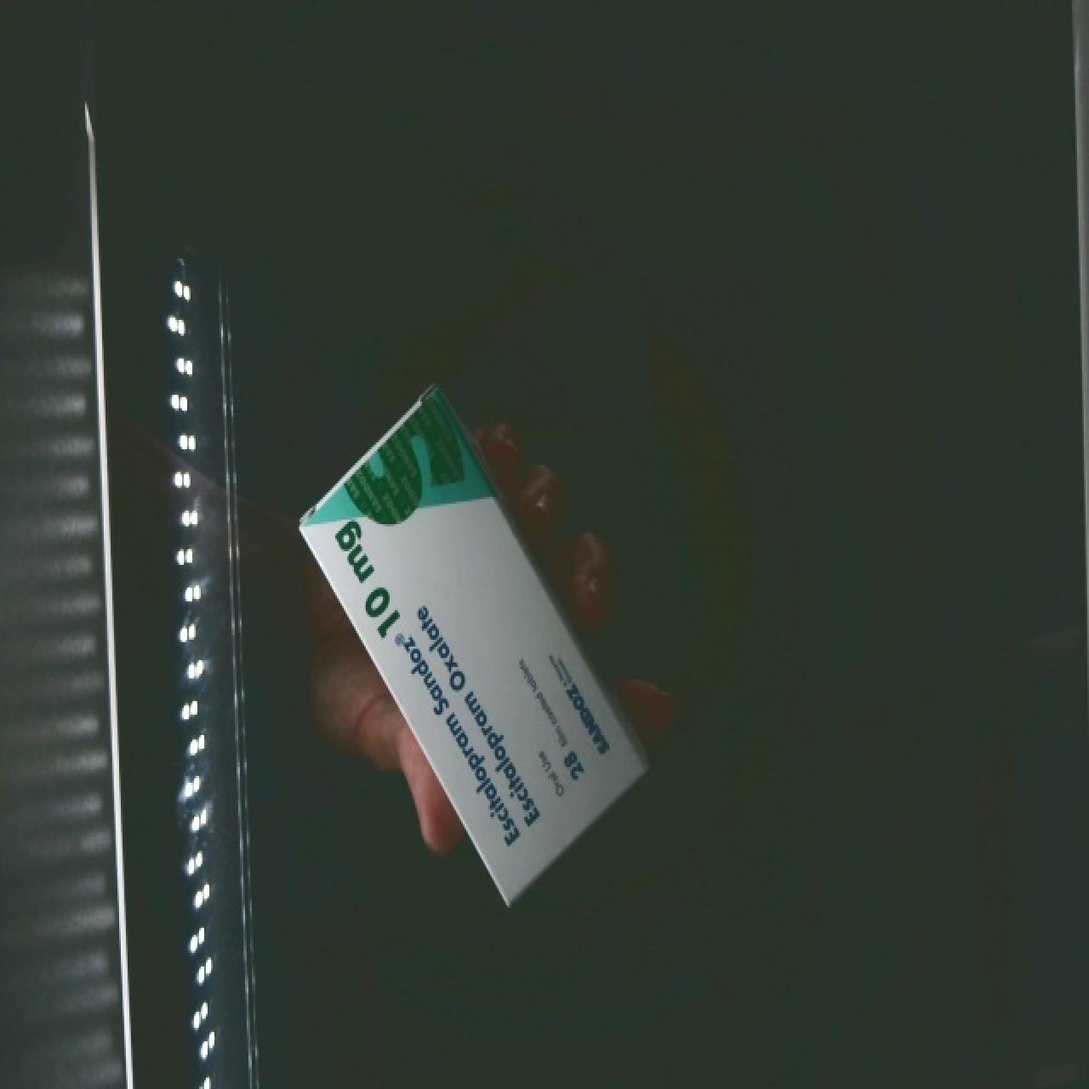medicine_label_obb: (363, 587, 574, 876)
